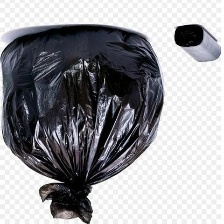plastic_bag: (0, 19, 165, 223), (168, 21, 223, 66)
